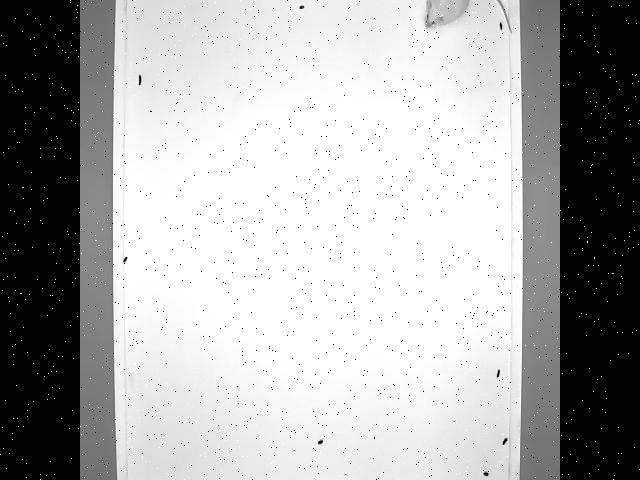Tikus: (422, 0, 514, 35)
